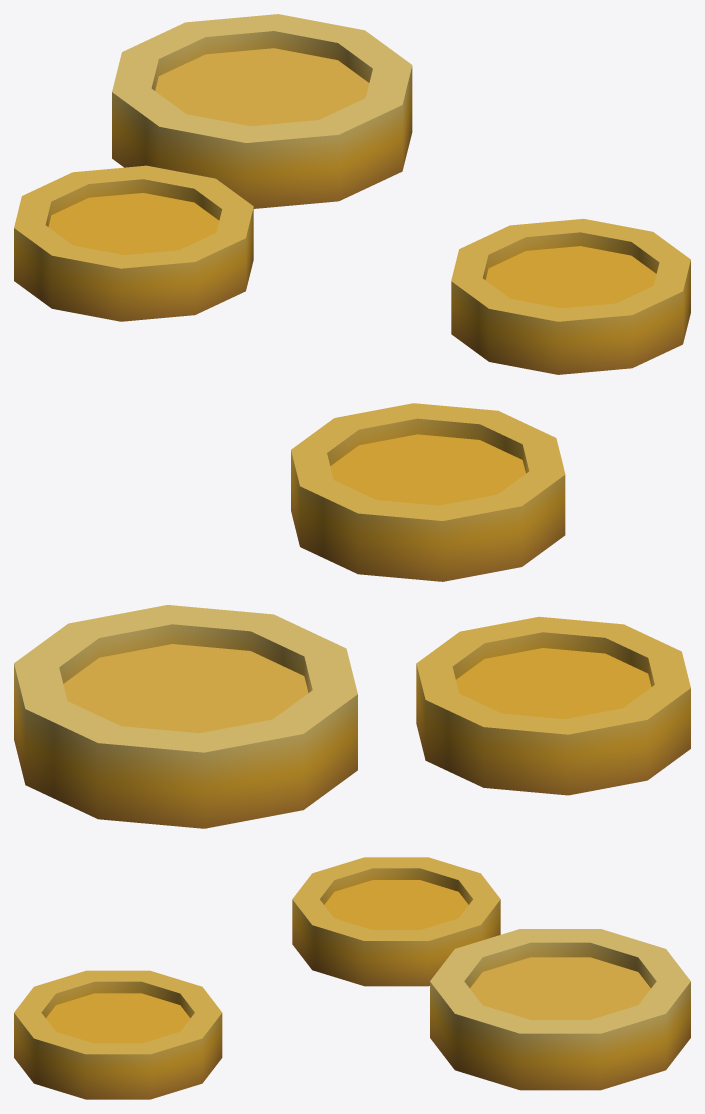
The model's file is dungeonkit_decor_coins.fbx.
The picture shows the model from 3 angles, top to bottom: view 1: azimuth 30°, elevation 25°; view 2: azimuth 150°, elevation 25°; view 3: azimuth 270°, elevation 25°; orthographic projection. The views are drawn at different scales.
Visible parts, largest first — view 1: Circle.003; view 2: Circle.003; view 3: Circle.003.
Boxes of the visible parts, x1=… form: Circle.003: x1=14, y1=14, x2=690, y2=374; Circle.003: x1=14, y1=403, x2=690, y2=828; Circle.003: x1=14, y1=857, x2=690, y2=1099.
Bounding box in the file's own units: 107 × 14.37 × 156.
